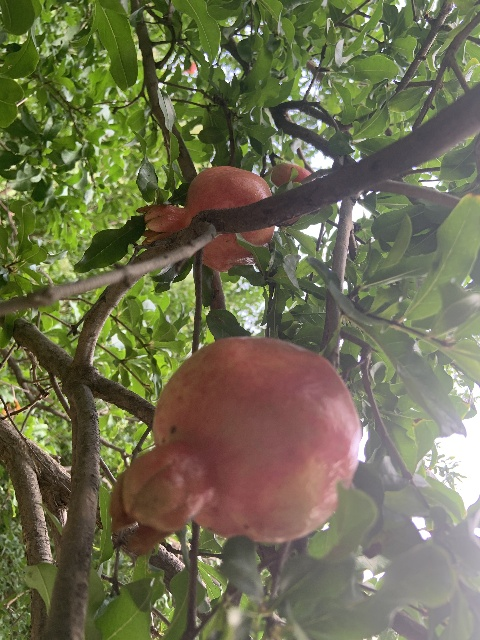ripe: (109, 336, 361, 552), (136, 165, 275, 272)
